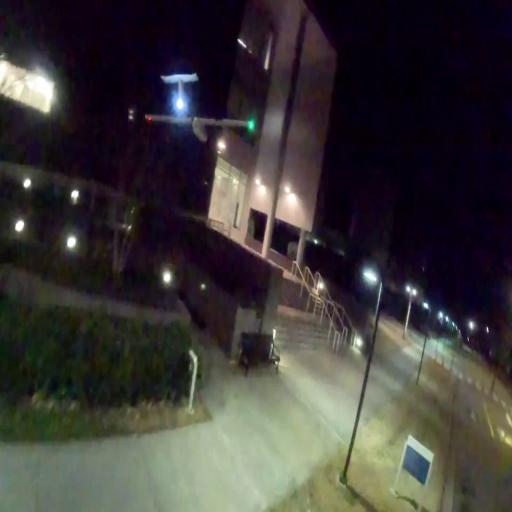uav: (141, 68, 260, 152)
